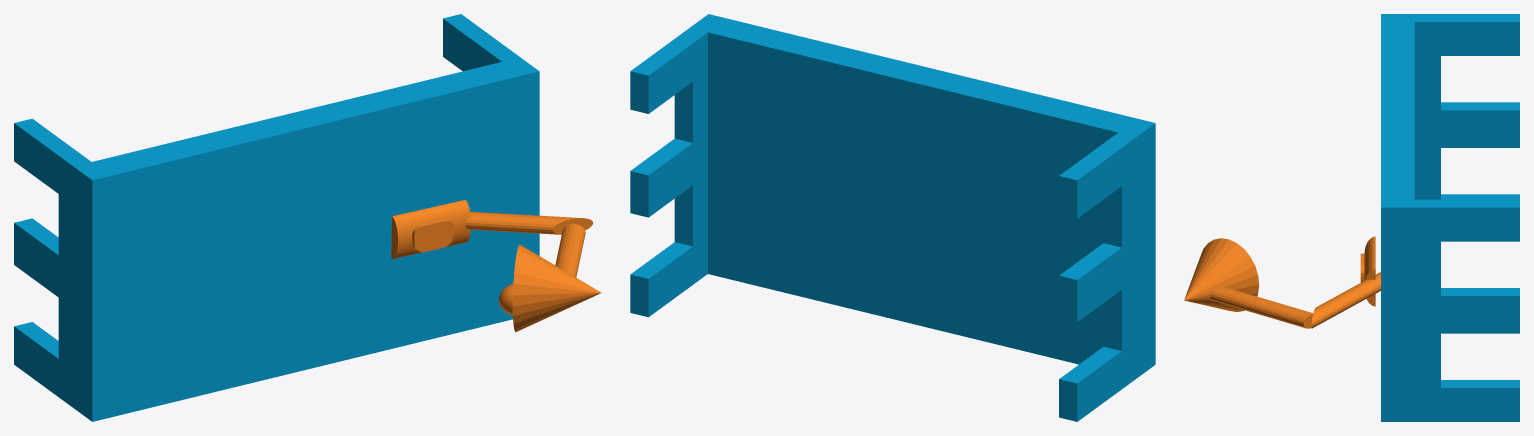
The model's file is tinker.obj.
3 renders of one model, left to right at view 1: azimuth 30°, elevation 25°; view 2: azimuth 150°, elevation 25°; view 3: azimuth 270°, elevation 25°, orthographic. The views are drawn at different scales.
Parts seen in each view (by area): view 1: group_0_40919, group_0_16089887; view 2: group_0_40919; view 3: group_0_40919, group_0_16089887.
Part boxes in pixels (bbox=[...]): group_0_40919: bbox=[14, 14, 539, 421]; group_0_16089887: bbox=[391, 200, 601, 331]; group_0_40919: bbox=[630, 14, 1155, 421]; group_0_40919: bbox=[1381, 14, 1519, 421]; group_0_16089887: bbox=[1184, 236, 1380, 328].
Bounding box in the file's own units: 126 × 63 × 89.45.
